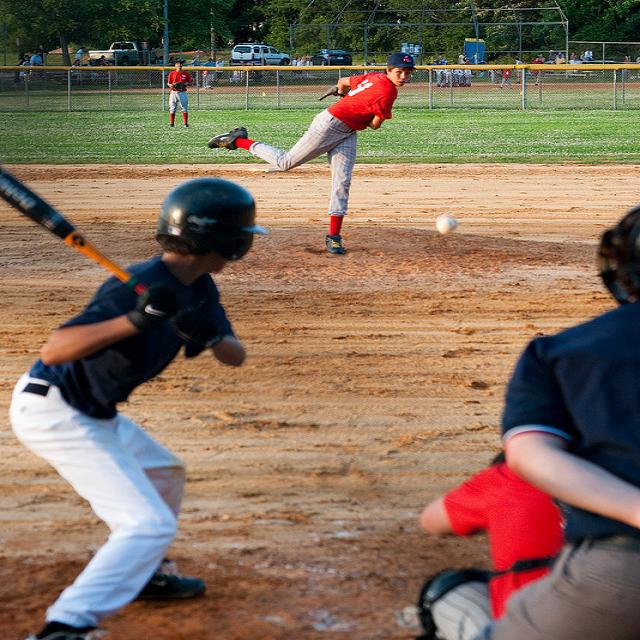Vehicle: (88, 42, 159, 66), (230, 43, 291, 66), (309, 49, 352, 67)
